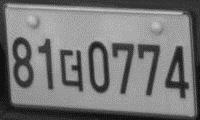0: (87, 39, 110, 93)
1: (33, 36, 58, 91)
4: (164, 44, 190, 99)
7: (135, 42, 162, 96), (110, 41, 135, 94)
8: (11, 37, 35, 88)
더: (58, 48, 84, 93)
